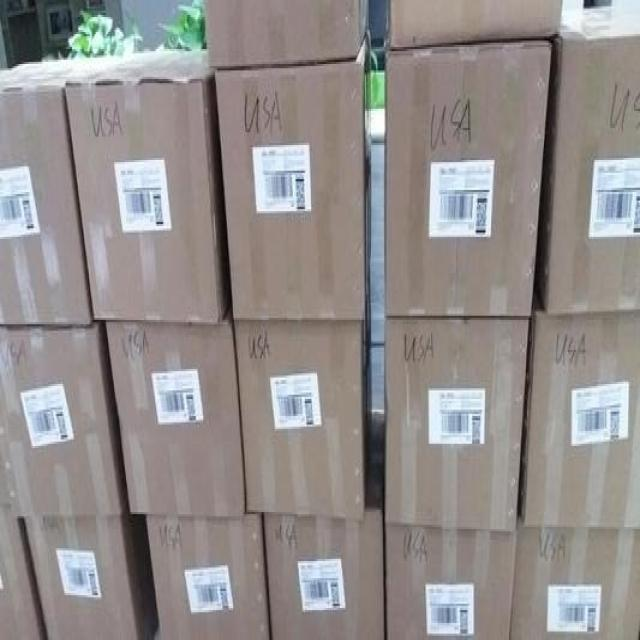box: (65, 50, 231, 323), (385, 42, 550, 316), (214, 38, 371, 319), (531, 2, 639, 311), (234, 290, 373, 517), (383, 320, 529, 526), (104, 311, 244, 515), (262, 410, 385, 638), (517, 311, 639, 527), (0, 59, 97, 328), (2, 325, 125, 517), (24, 516, 159, 638), (510, 516, 638, 638), (145, 514, 270, 638), (385, 527, 514, 637), (204, 3, 368, 66), (386, 1, 563, 50), (0, 504, 45, 638), (0, 411, 12, 505)
